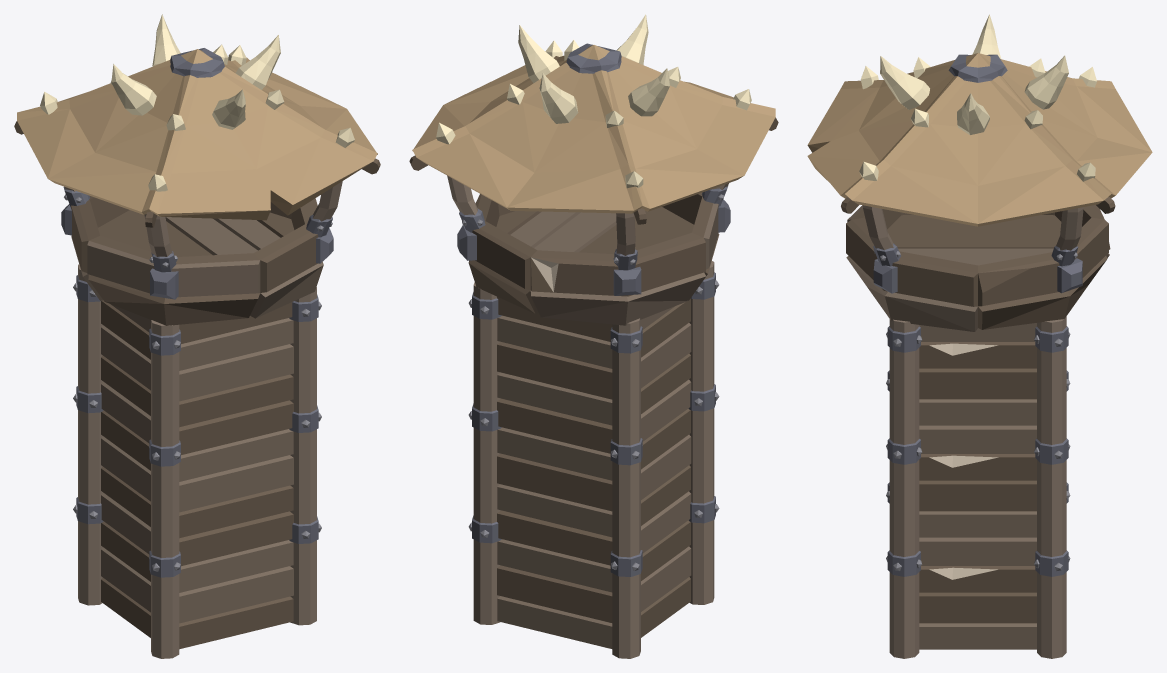
File: TOWER_5_FULL.fbx
3 renders of one model, left to right at view 1: azimuth 30°, elevation 25°; view 2: azimuth 150°, elevation 25°; view 3: azimuth 270°, elevation 25°, orthographic.
Parts seen in each view (by area): view 1: TOWER_5_UP_01, TOWER_5_OSNOVA_01, TOWER_5_OSNOVA_02, TOWER_5_OSNOVA_03; view 2: TOWER_5_UP_01, TOWER_5_OSNOVA_02, TOWER_5_OSNOVA_01, TOWER_5_OSNOVA_03; view 3: TOWER_5_UP_01, TOWER_5_OSNOVA_01, TOWER_5_OSNOVA_02, TOWER_5_OSNOVA_03.
Boxes of the visible parts, bbox=[...] form: TOWER_5_UP_01: bbox=[14, 14, 380, 325]; TOWER_5_OSNOVA_01: bbox=[73, 488, 321, 658]; TOWER_5_OSNOVA_02: bbox=[73, 377, 321, 547]; TOWER_5_OSNOVA_03: bbox=[73, 264, 321, 436]; TOWER_5_UP_01: bbox=[409, 14, 778, 325]; TOWER_5_OSNOVA_02: bbox=[468, 375, 719, 547]; TOWER_5_OSNOVA_01: bbox=[468, 487, 719, 658]; TOWER_5_OSNOVA_03: bbox=[468, 261, 719, 435]; TOWER_5_UP_01: bbox=[807, 14, 1152, 331]; TOWER_5_OSNOVA_01: bbox=[886, 482, 1070, 658]; TOWER_5_OSNOVA_02: bbox=[886, 370, 1070, 546]; TOWER_5_OSNOVA_03: bbox=[886, 316, 1070, 434].
Bounding box in the file's own units: 748 × 1343 × 740.
